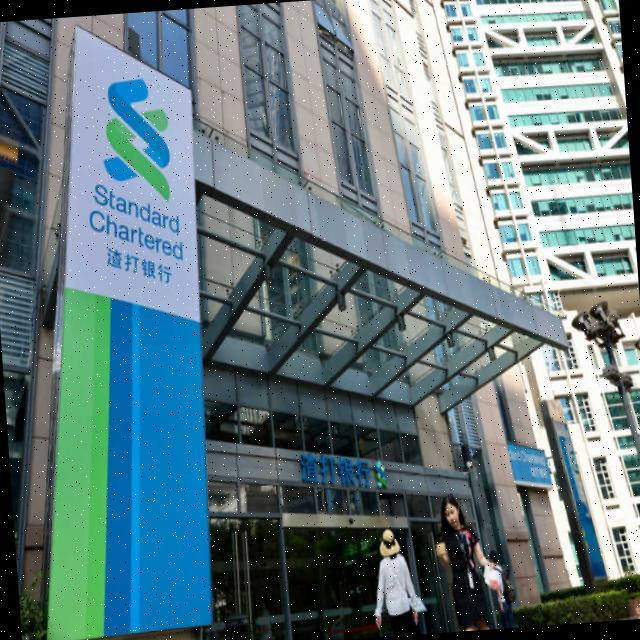Standard Chartered: (79, 71, 191, 296)
